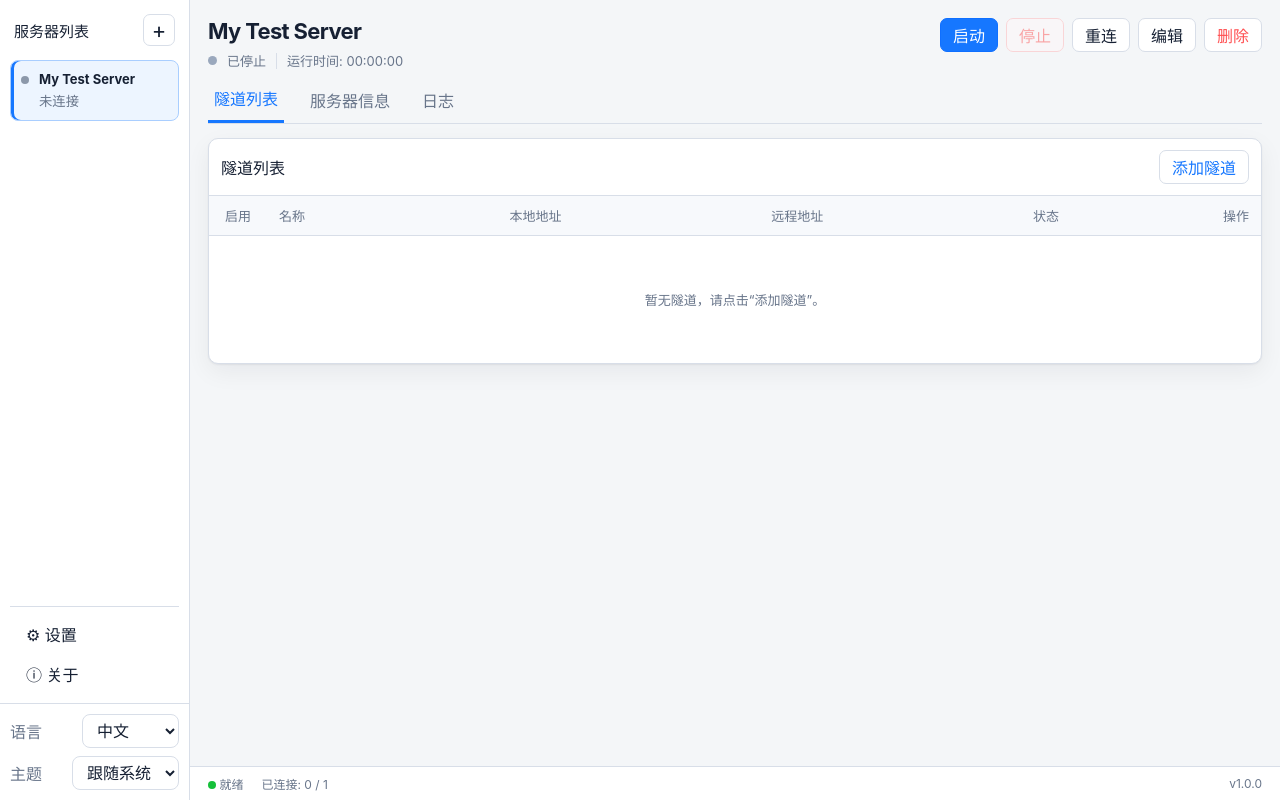
TunnelDockApp › loads and displays servers
Note: Click server to select (from sidebar)
Click the text "My Test Server": (87, 79) [39,71,135,87]
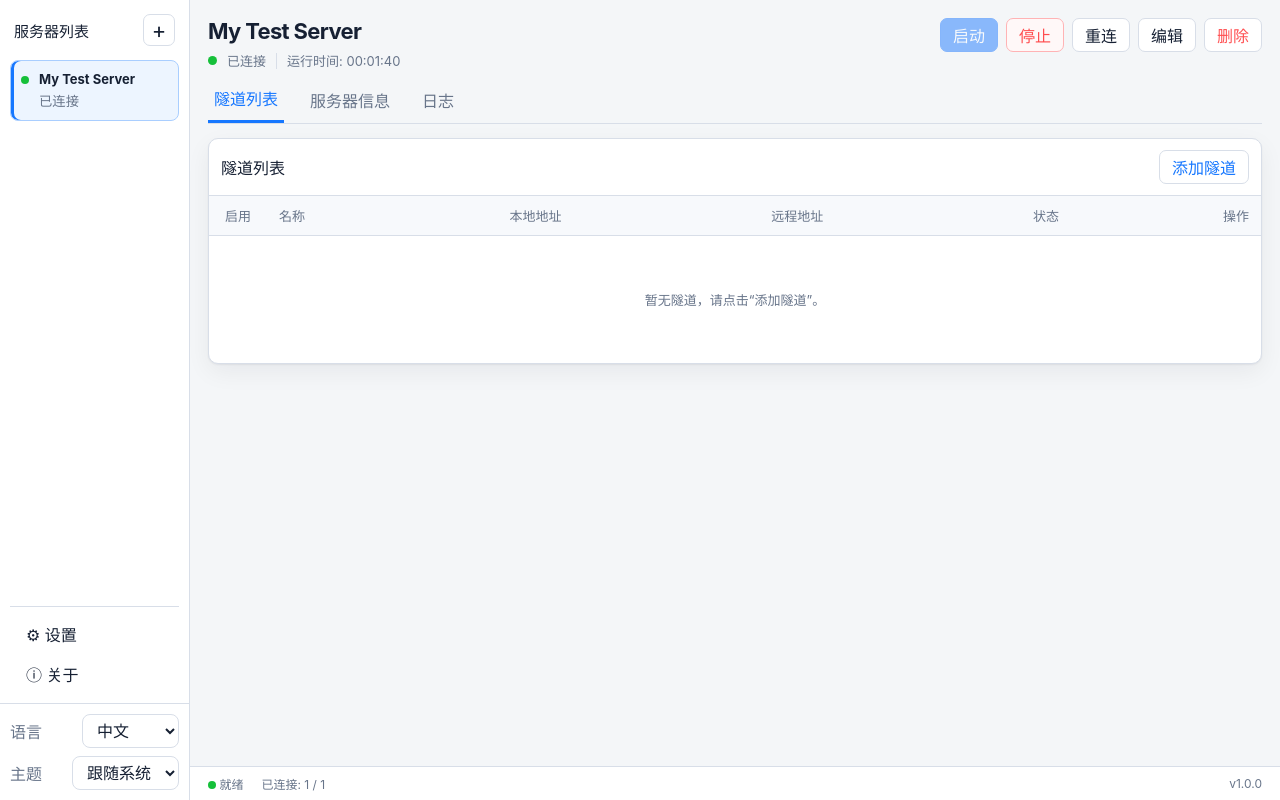
Expected: the heading "My Test Server" is shown, [208,18,361,44]
Expected: the text "已连接" below "服务器列表" is shown, [39,93,79,109]
